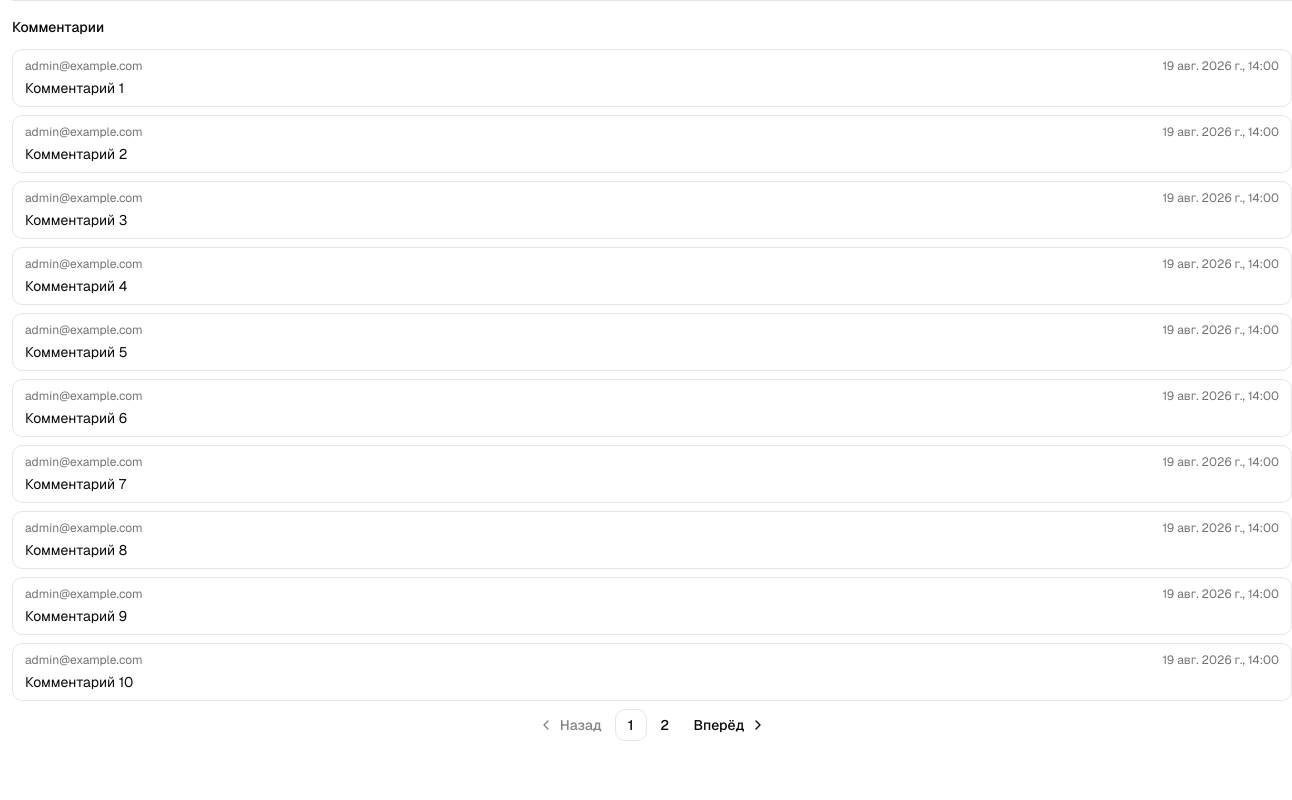
TaskComments (list) › paginates when there are more comments than one page
Check: the text "Комментарий 11" is not shown
Click the button with aria-label "Следующая страница" at (728,725), box left=683, top=709, right=773, bottom=741
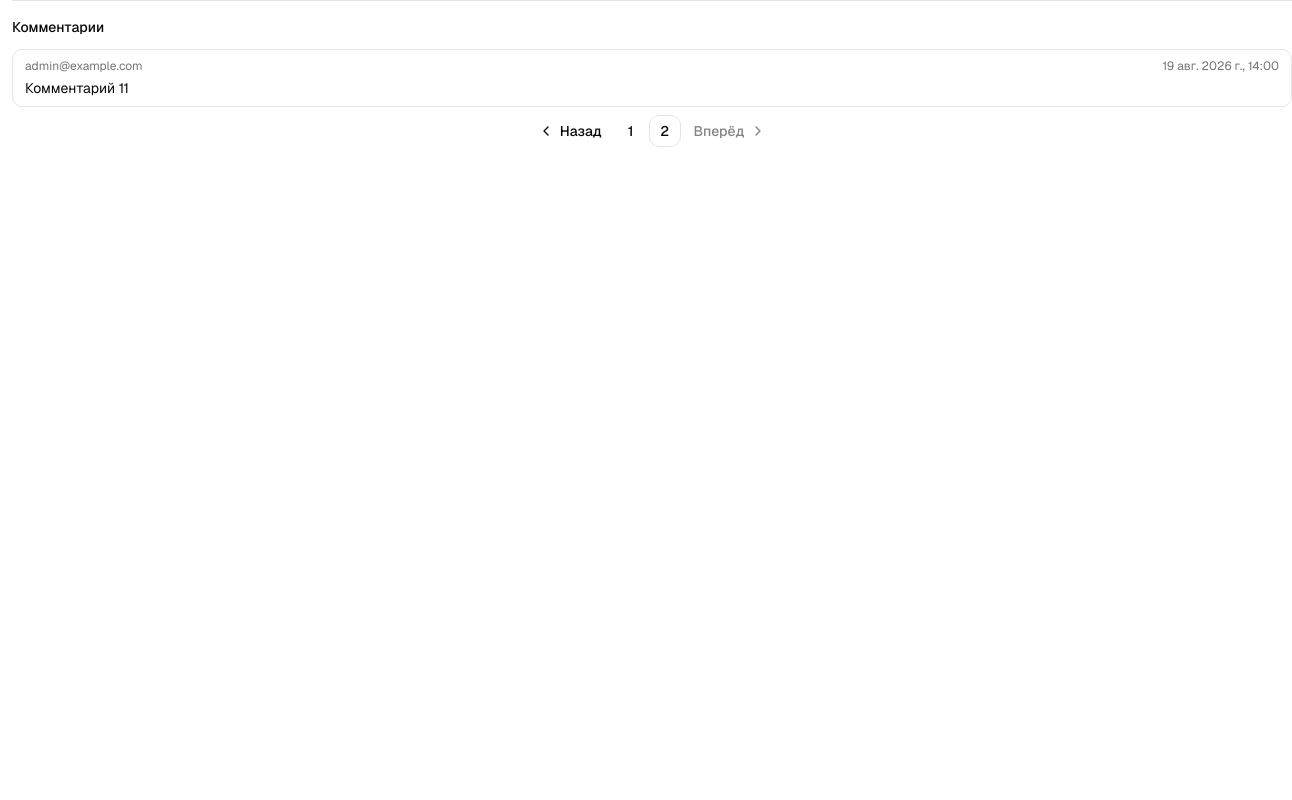
Check: the text "Комментарий 11" is shown, box left=25, top=79, right=129, bottom=97
Check: the number of list items with test id "task-comment" is 1, box left=12, top=49, right=1291, bottom=107
